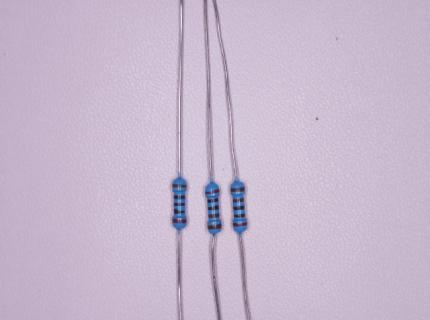Black band: (208, 205, 219, 211), (208, 199, 218, 204), (234, 214, 246, 218), (174, 209, 185, 213), (174, 196, 185, 200), (234, 206, 244, 210), (174, 204, 185, 206)
Brown band: (208, 224, 221, 230), (231, 187, 245, 192), (172, 184, 187, 188), (233, 198, 244, 203), (209, 214, 219, 218)
Red band: (205, 189, 220, 194), (173, 219, 187, 224), (233, 223, 247, 227)
